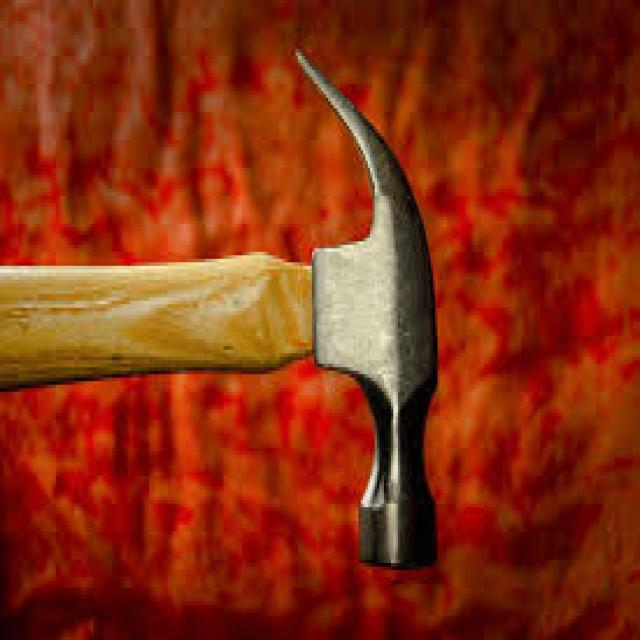hammer: (0, 23, 477, 597)
